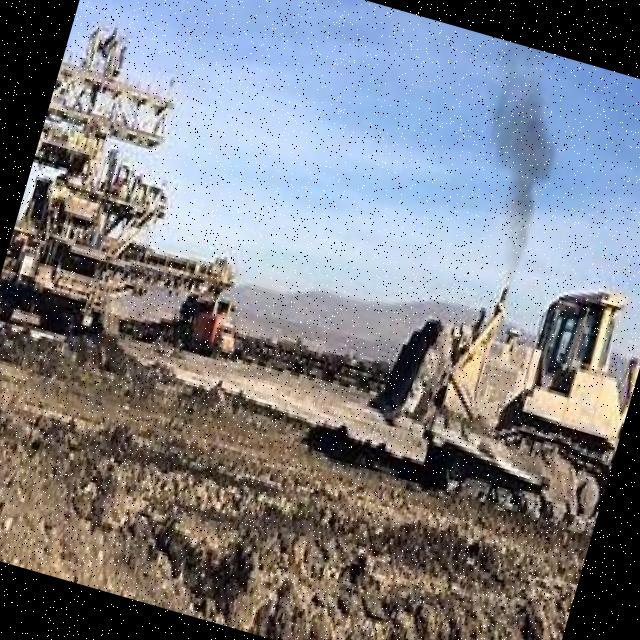Bulldozer: (353, 201, 640, 551)
